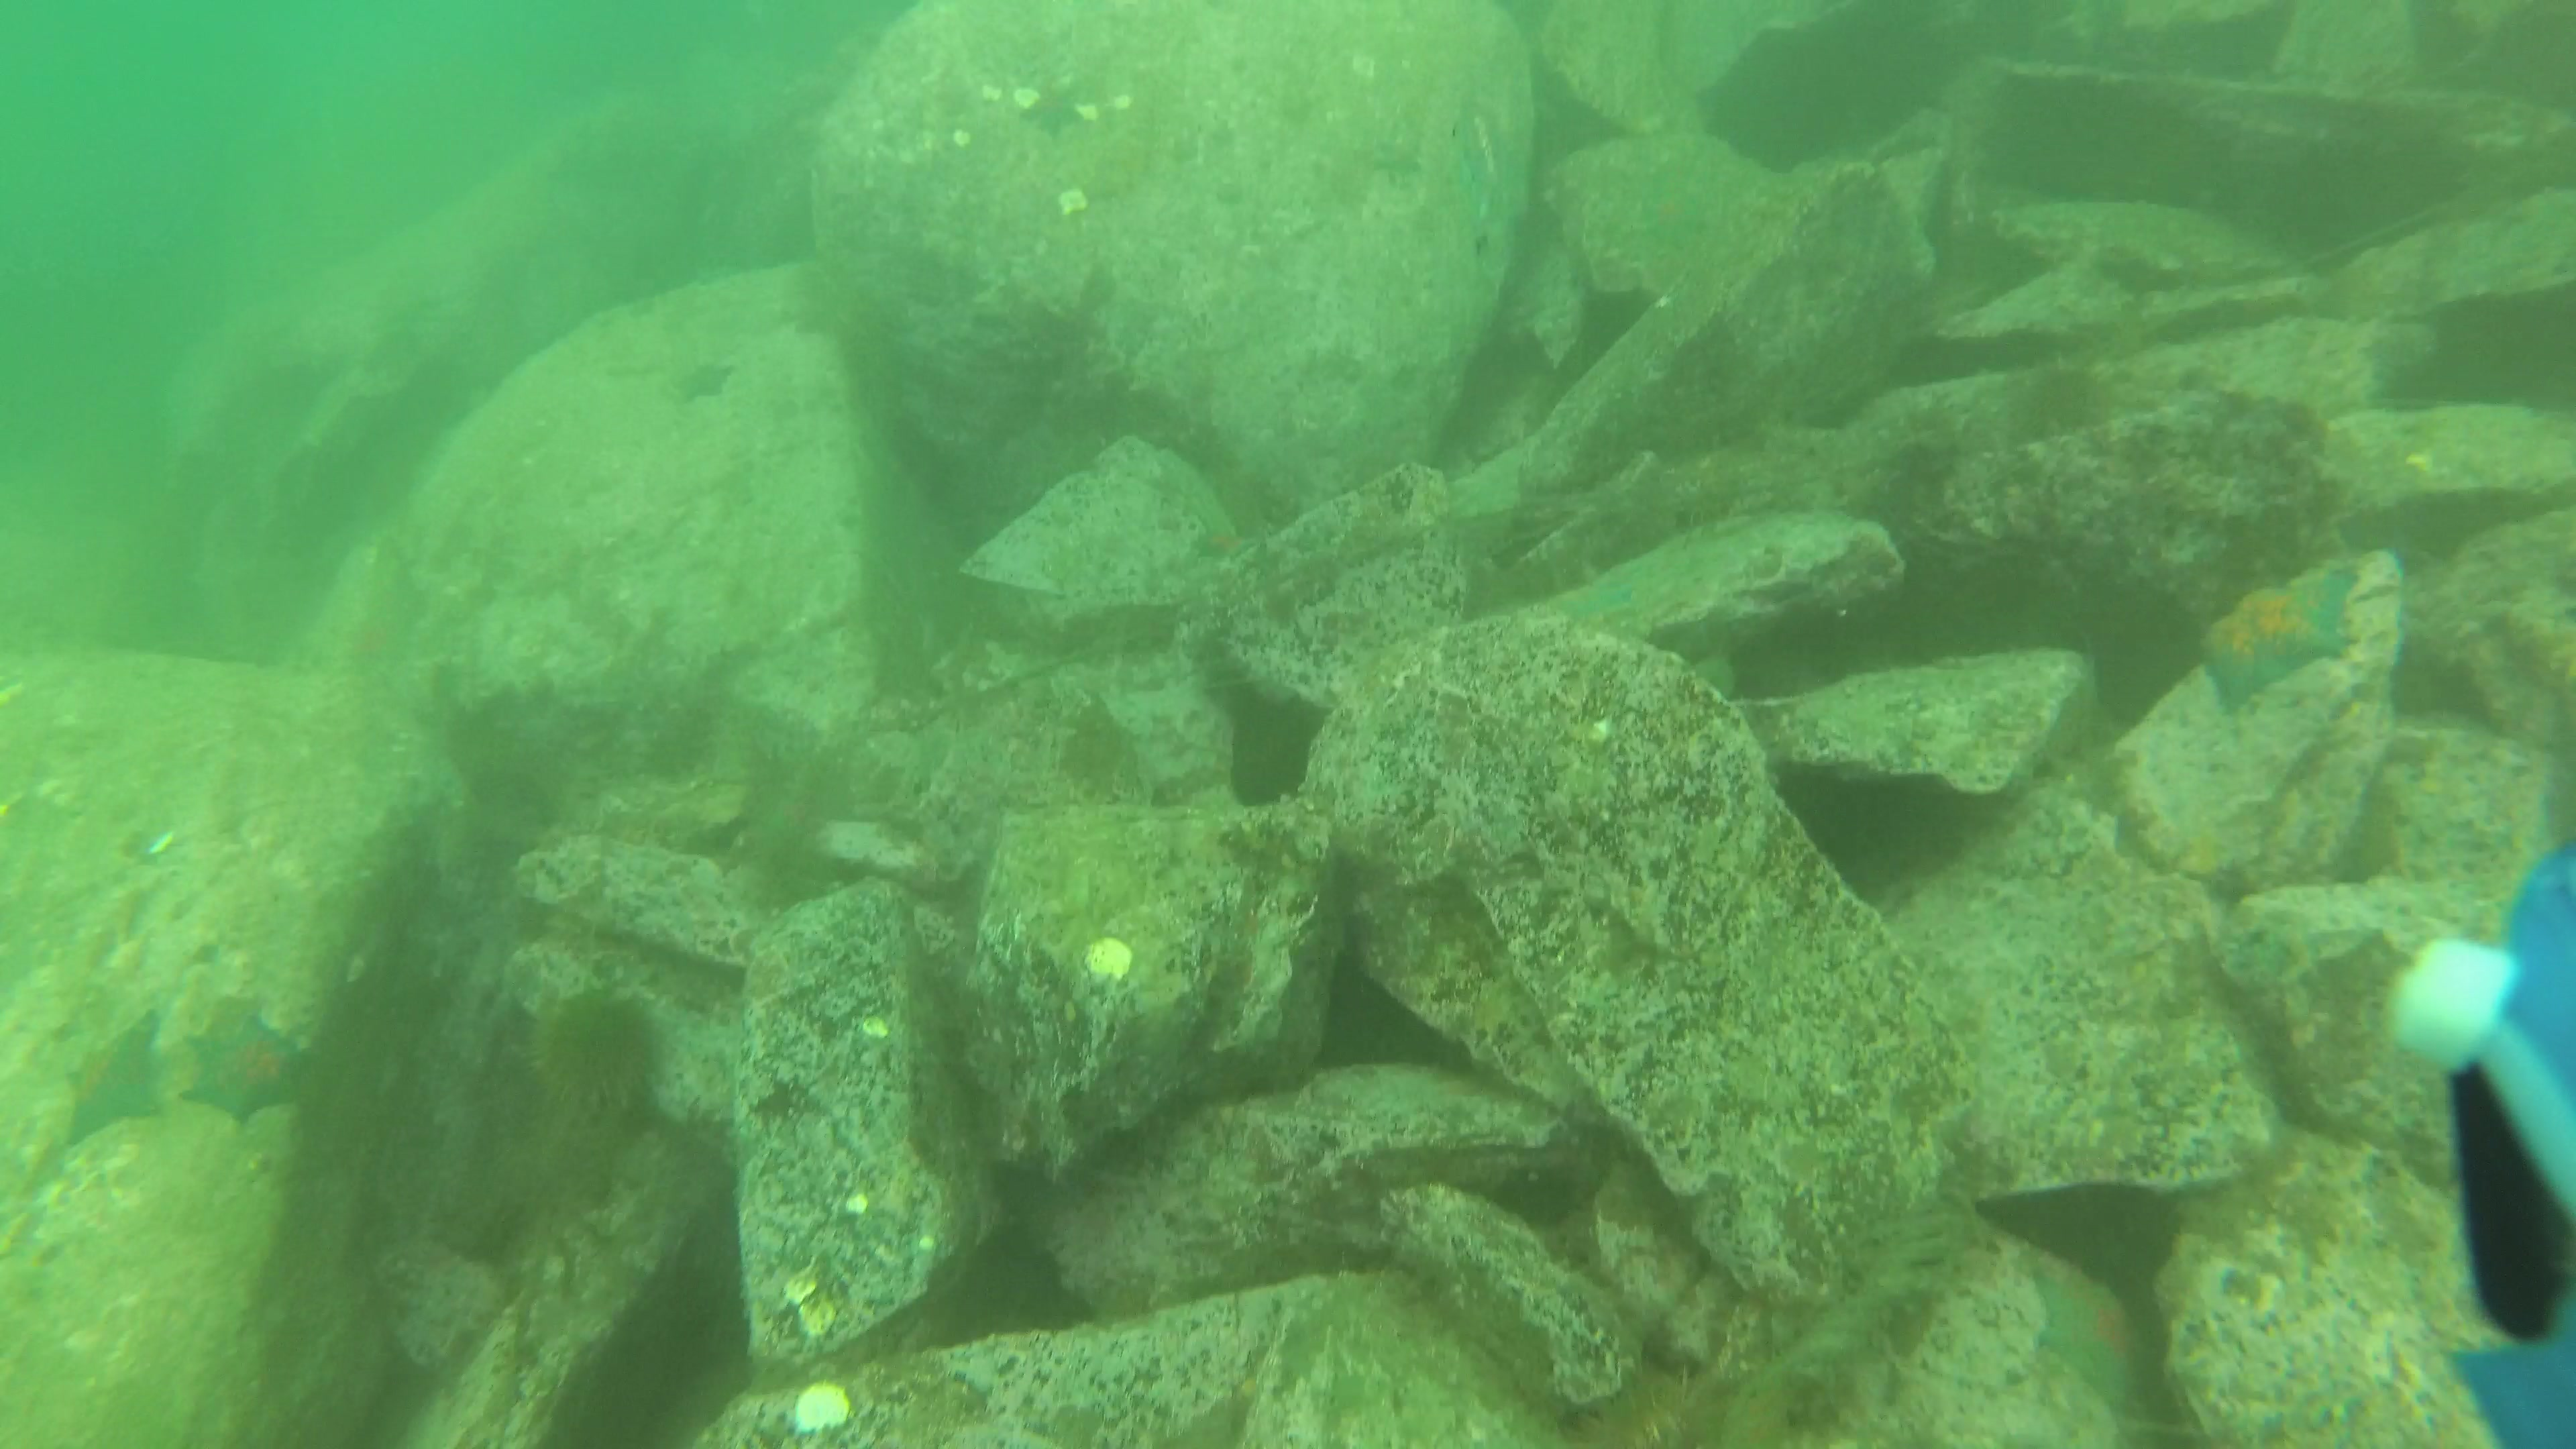echinus: (522, 982, 671, 1122)
starfish: (2192, 563, 2365, 717), (2017, 1253, 2155, 1415), (173, 998, 318, 1134), (58, 1001, 175, 1152), (1019, 83, 1088, 140), (663, 357, 740, 403)
